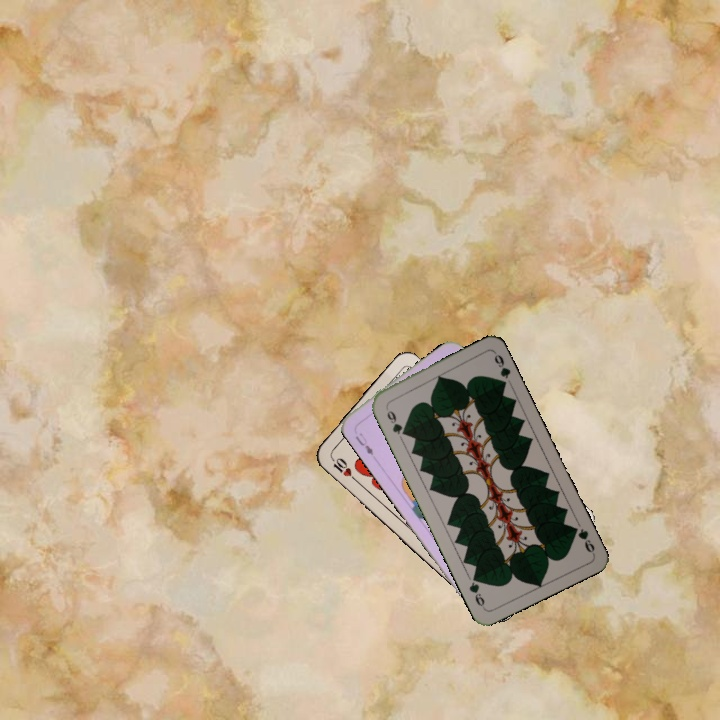EU: (351, 428, 376, 458)
G9: (567, 522, 597, 556), (382, 402, 409, 438)
H10: (327, 453, 360, 484)
